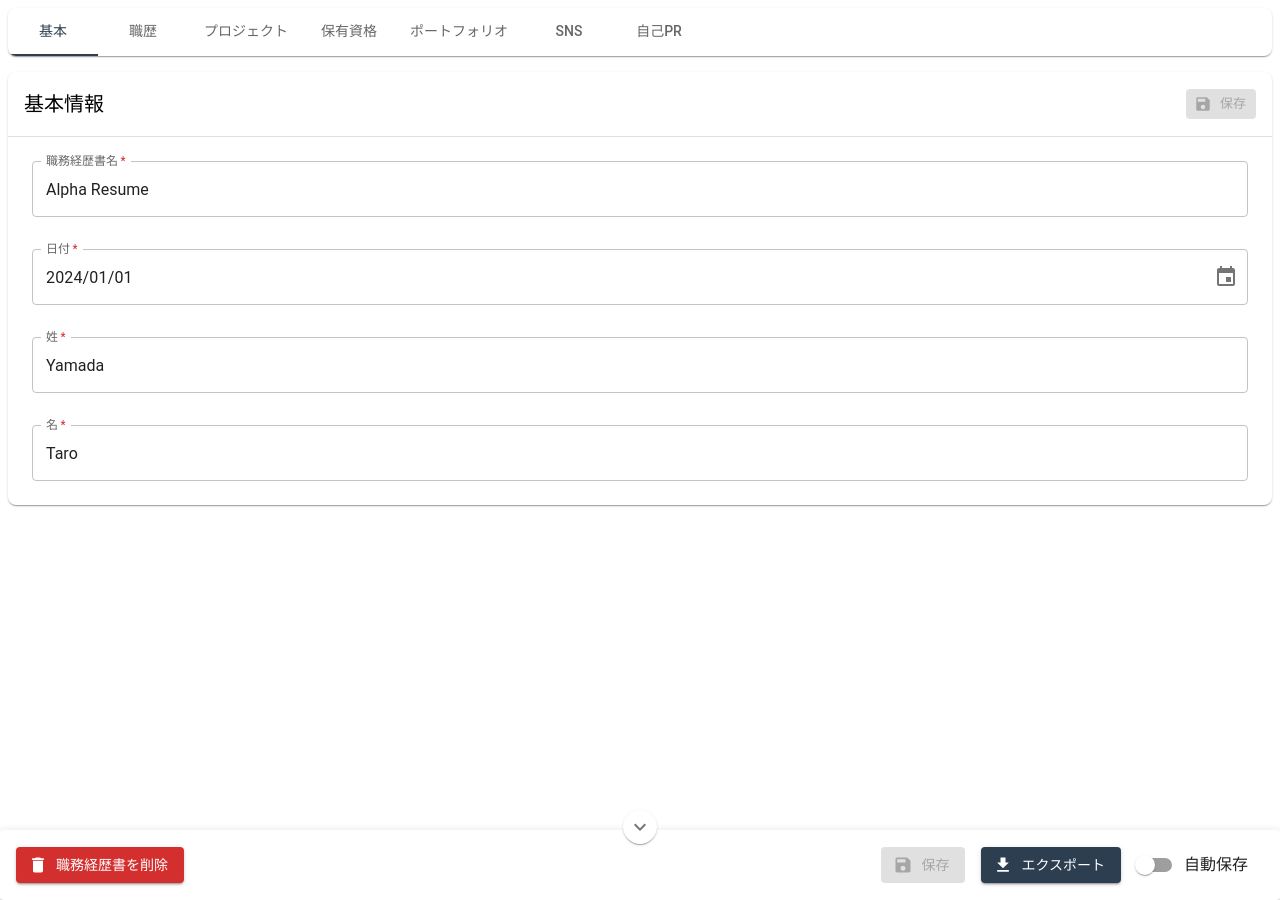
Scenario: resume editor › project entryを複製しコピーをactive entryにすること
Step 1. Click the tab "プロジェクト" → (246, 32), box [188,8,304,56]
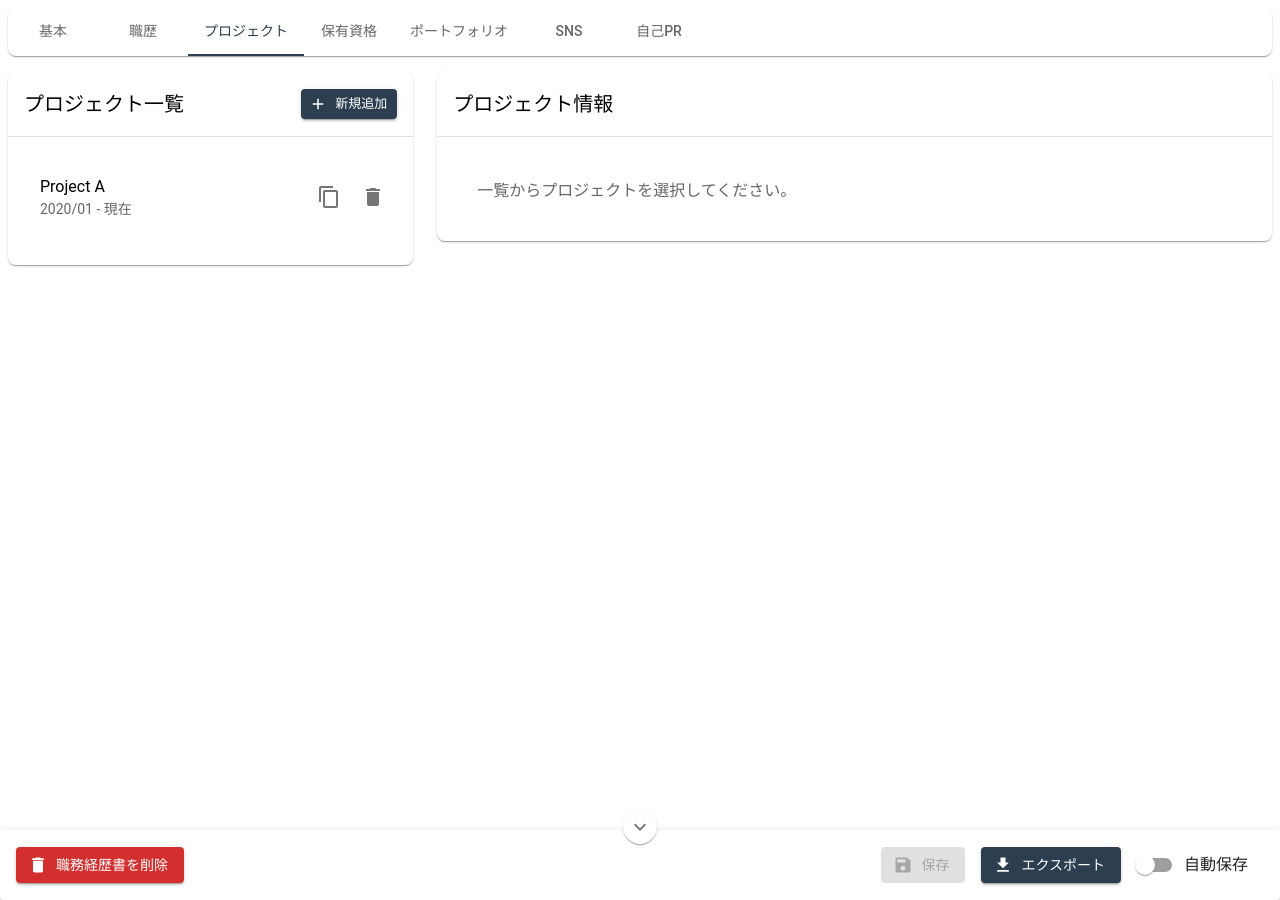
Step 2. Click the button named "Project Aを複製" → (329, 197), box [309,177,349,217]
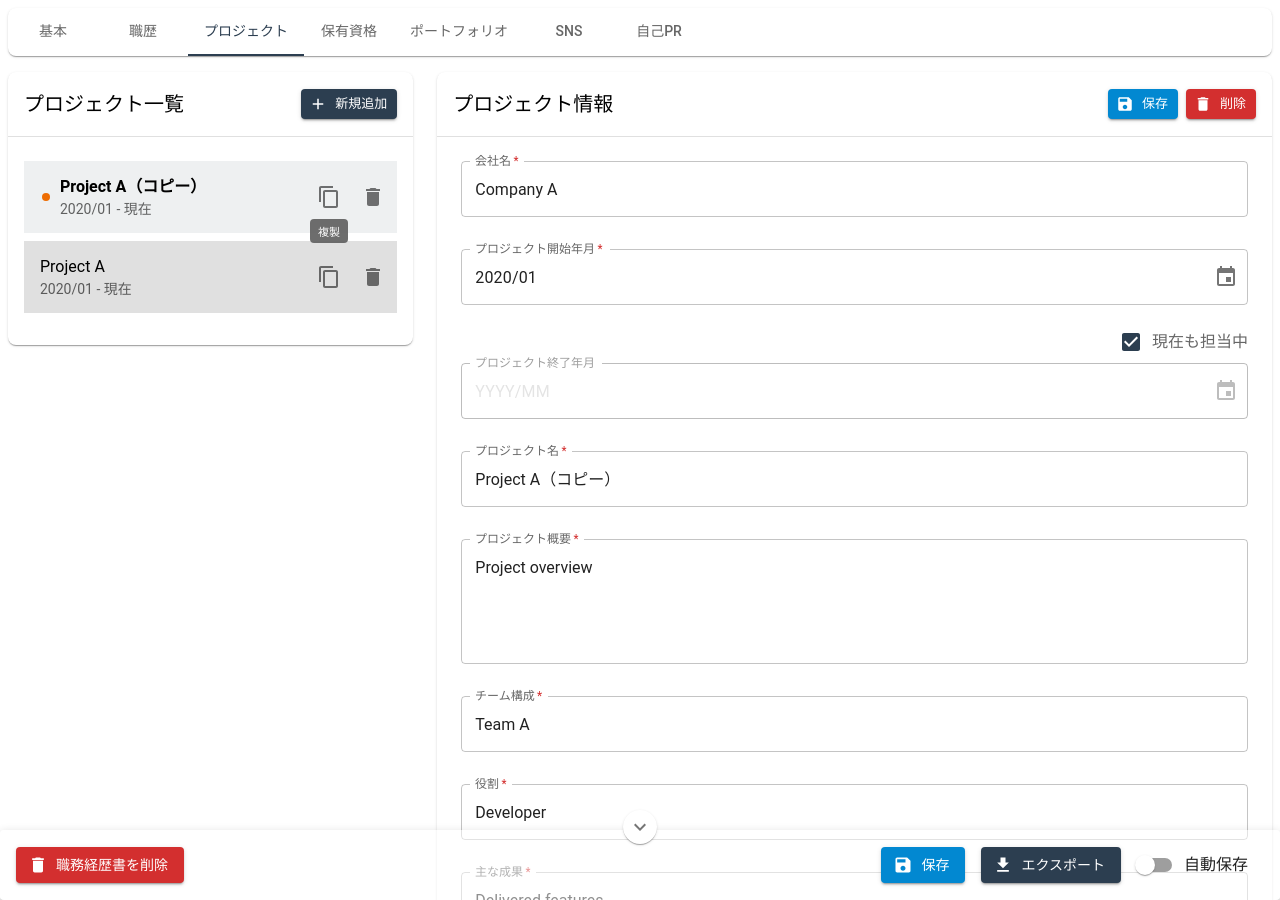
Expected: the text "Project A（コピー）" is shown, [60,177,206,196]
